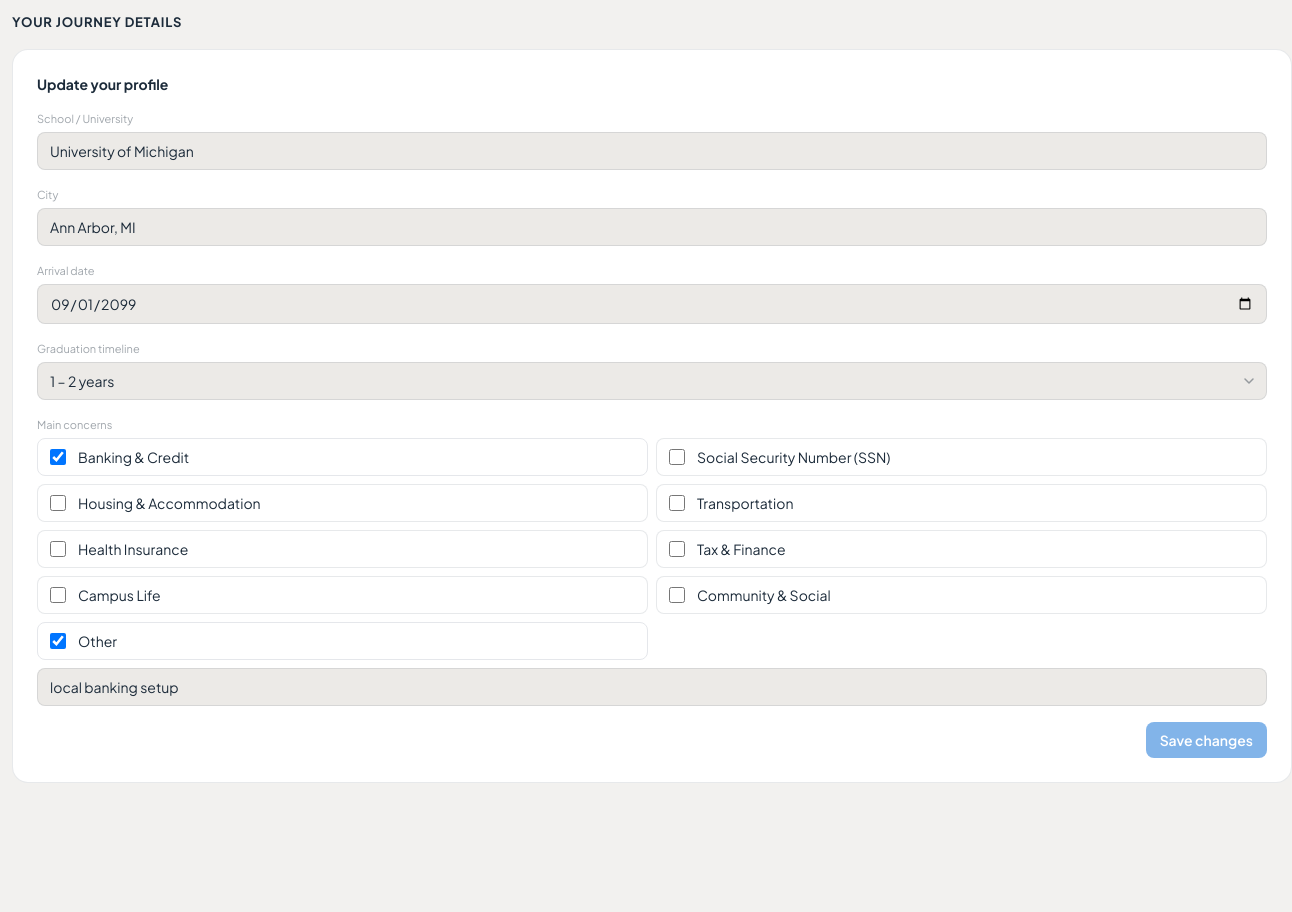
IntakeEditSection › shows 'Profile updated.' when save succeeds without arrivalDateChanged
Step 1. Replace the text in the field labelled "School / University" with "Michigan State" → (652, 151), box [37, 132, 1267, 170]
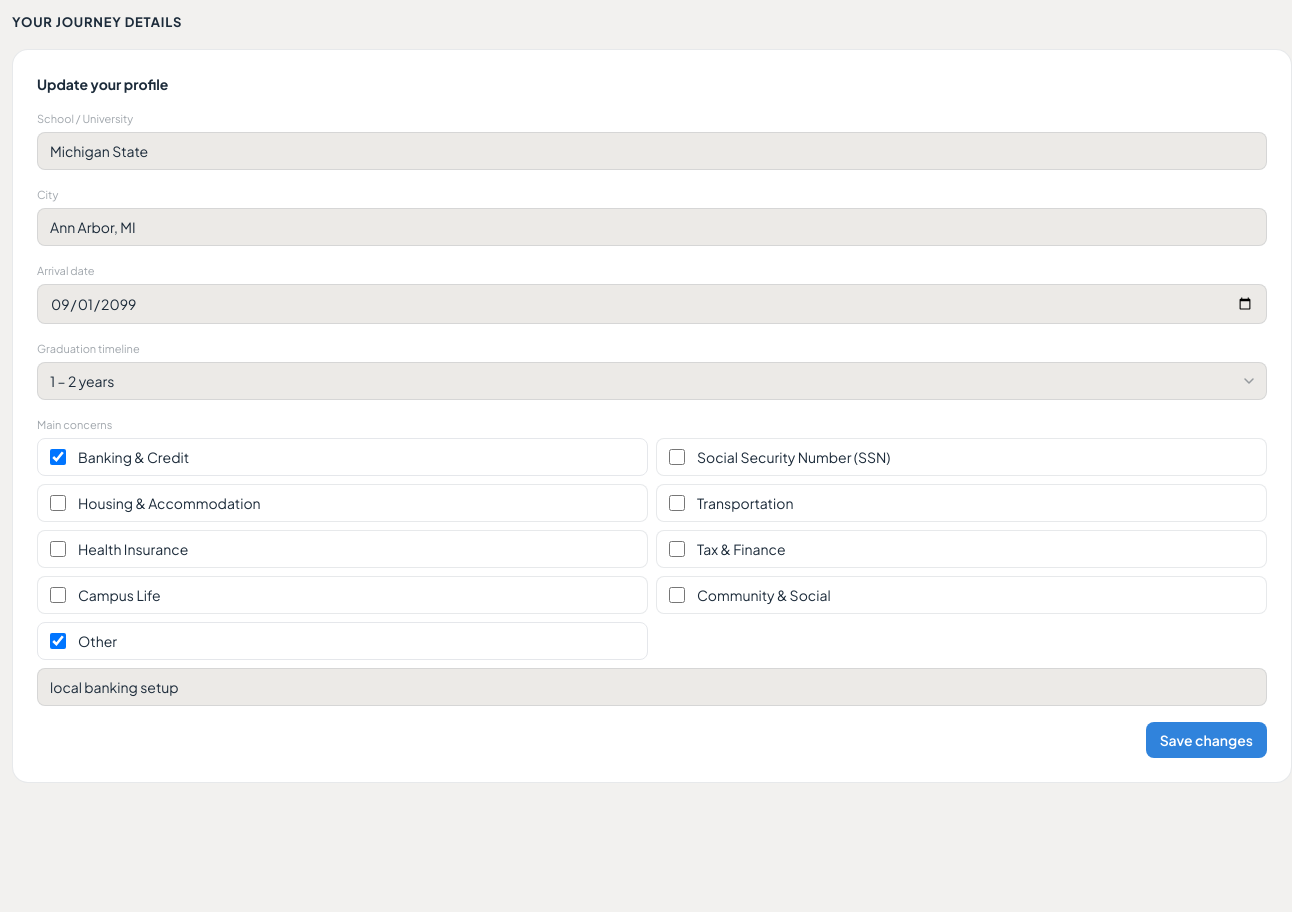
Step 2. Click the button "Save changes" → (1206, 740), box [1146, 722, 1267, 758]
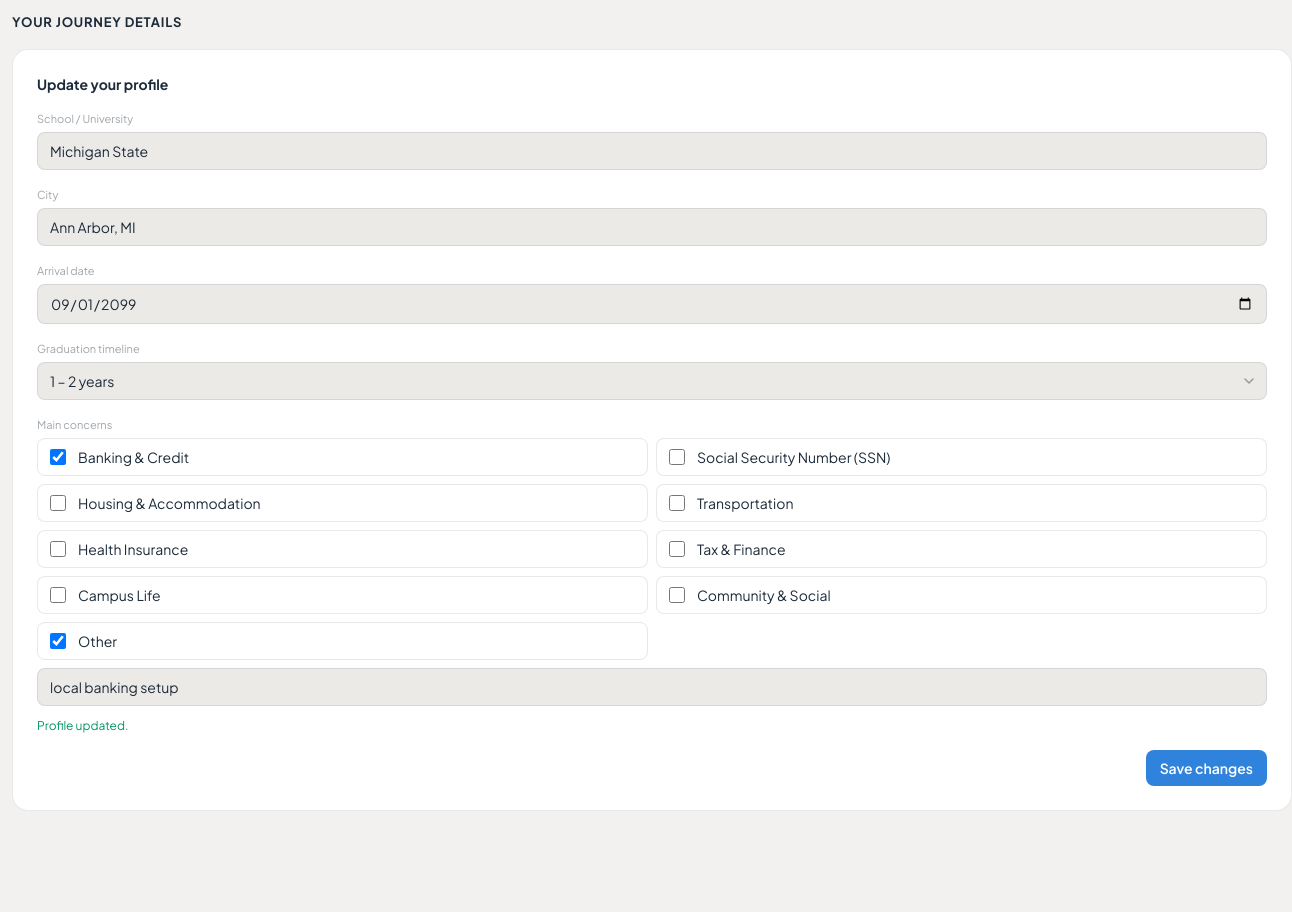
Check: the text "Profile updated." is shown, box [37, 718, 128, 732]
